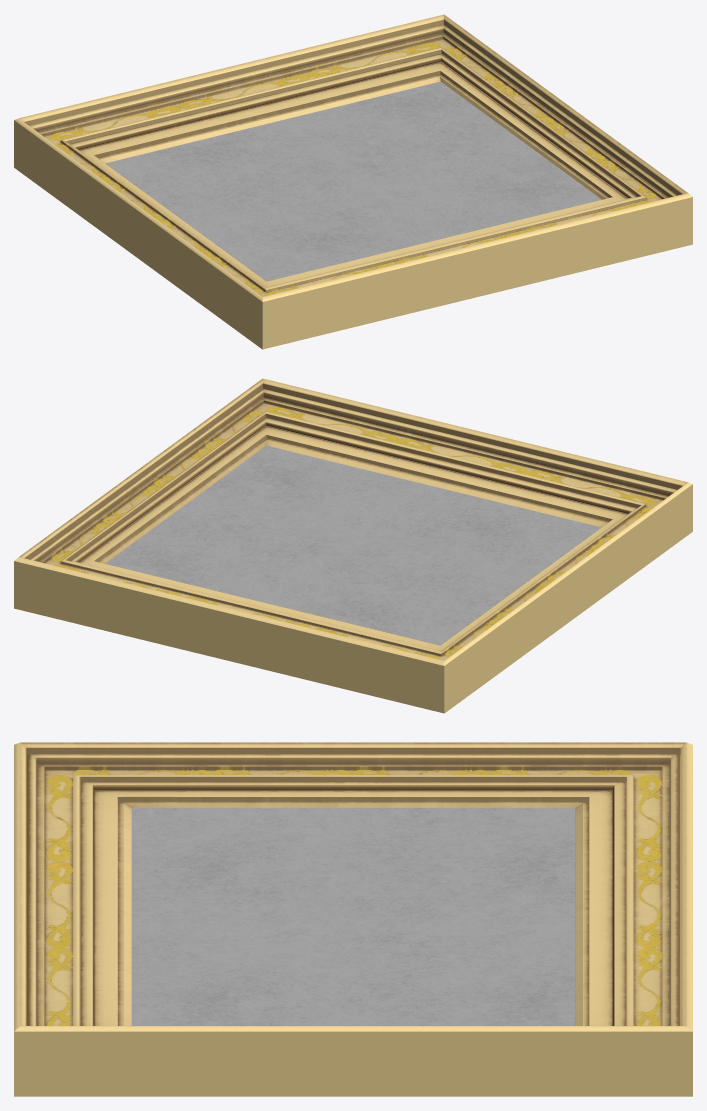
Rendered from Gakubuti2_10bai.fbx.
The picture shows the model from 3 angles, top to bottom: view 1: azimuth 30°, elevation 25°; view 2: azimuth 150°, elevation 25°; view 3: azimuth 270°, elevation 25°; orthographic projection. The views are drawn at different scales.
Visible parts, largest first — view 1: pCube2; view 2: pCube2; view 3: pCube2.
Part boxes in pixels (box(x1,y1,x2,y2)): pCube2: box(14, 14, 692, 349); pCube2: box(14, 378, 692, 713); pCube2: box(14, 742, 692, 1096).
Bounding box in the file's own units: 30 × 3.36 × 30.
